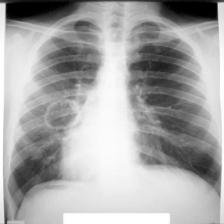tuberculosis: (3, 11, 224, 208)
